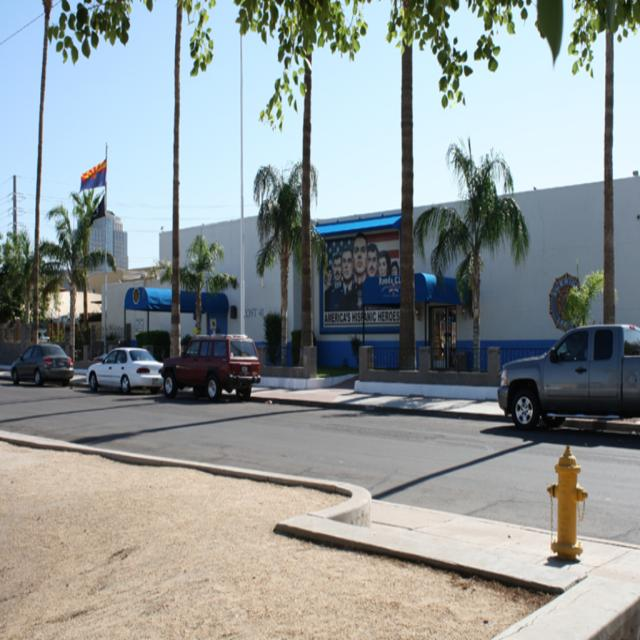car: (162, 331, 263, 403), (86, 341, 165, 392), (11, 336, 74, 383)
